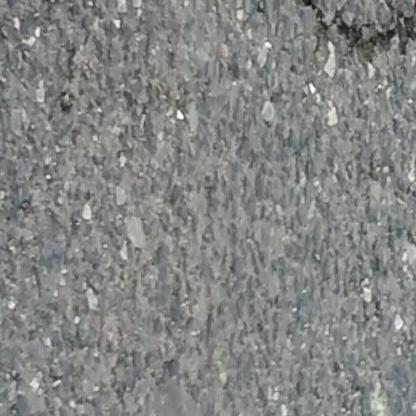Cracks: (289, 0, 416, 57)
